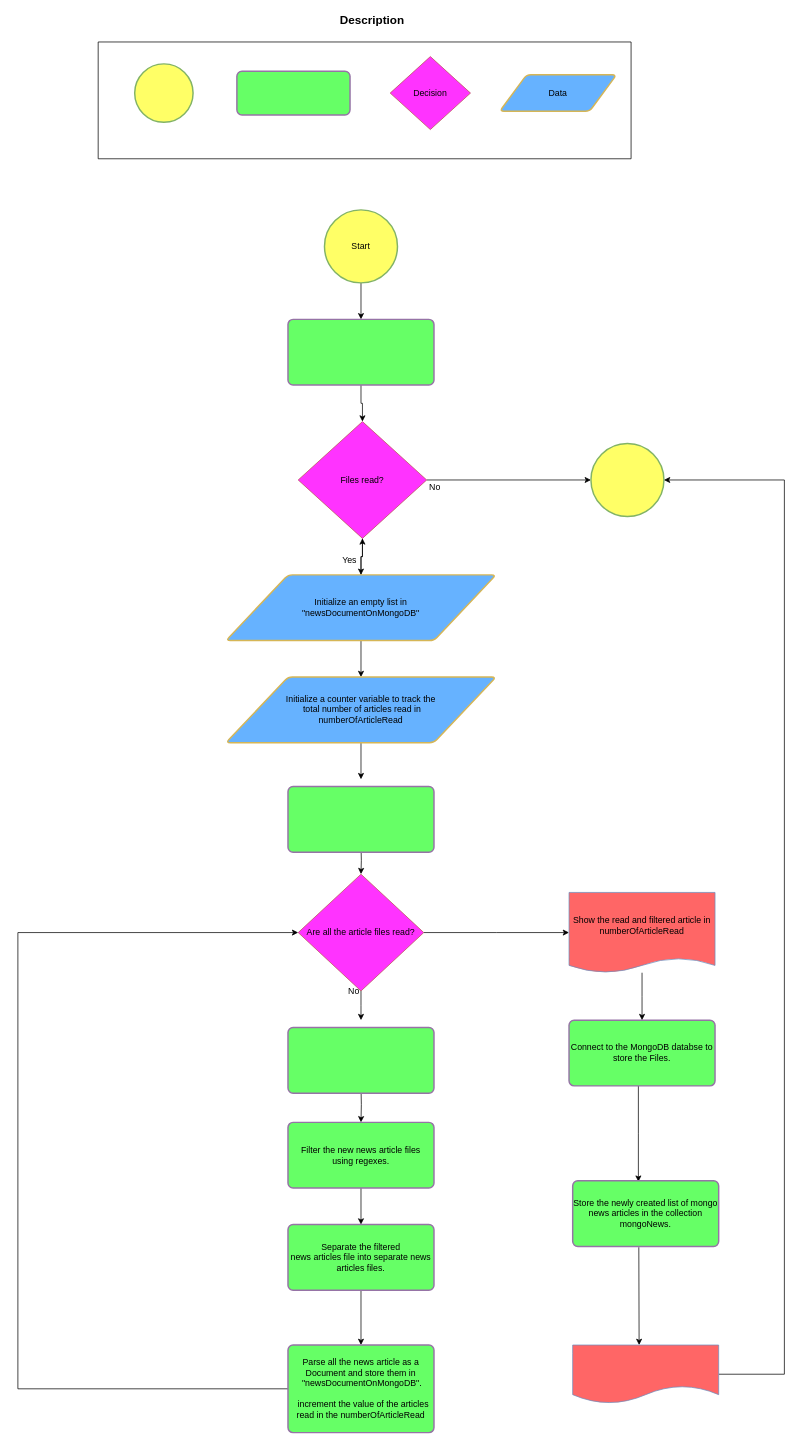
The diagram is 803 pixels wide and 1445 high, and some of its shapes have lost their labels. The shapes that lost their labels are listed below. From the top down, each one's centre as x and y in pixels, then its label:
At (x=163, y=93): "Start/Stop".
At (x=293, y=92): "Process".
At (x=360, y=351): "Read the file names for each extracted news article stored in JSON format.".
At (x=627, y=479): "Stop".
At (x=360, y=819): "Go through each of the JSON news article file names in a loop.".
At (x=360, y=1060): "Read the data stored in the current JSON news articles file.".
At (x=645, y=1373): "Display the message that Articles are stored.".
